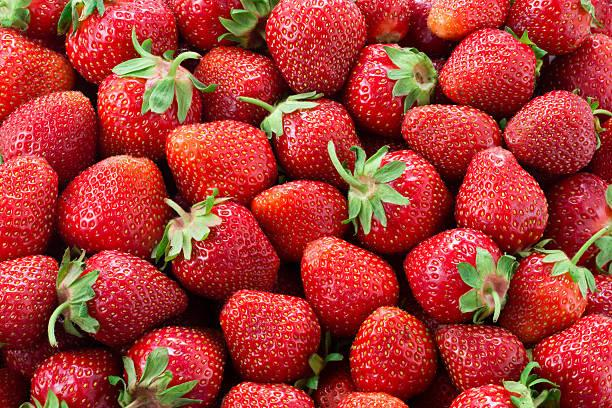strawberry: (165, 200, 286, 296), (60, 151, 171, 255), (457, 145, 550, 255), (350, 142, 445, 248), (222, 280, 320, 382), (91, 67, 203, 155), (68, 252, 185, 336), (63, 0, 183, 81), (297, 231, 400, 325), (264, 0, 362, 97), (405, 228, 506, 320), (344, 299, 434, 399), (124, 320, 227, 407), (435, 27, 541, 110), (166, 119, 271, 201), (2, 89, 101, 174), (506, 242, 589, 338), (515, 86, 599, 174), (275, 97, 361, 182), (2, 27, 75, 124), (254, 175, 349, 248), (537, 316, 612, 408), (197, 49, 287, 119), (355, 46, 434, 125), (433, 316, 524, 382), (411, 100, 499, 168), (0, 256, 58, 353), (4, 152, 56, 257), (558, 163, 612, 260), (35, 348, 112, 408), (171, 0, 262, 48), (514, 0, 592, 52), (225, 372, 315, 408), (429, 2, 510, 35), (448, 385, 539, 408)
